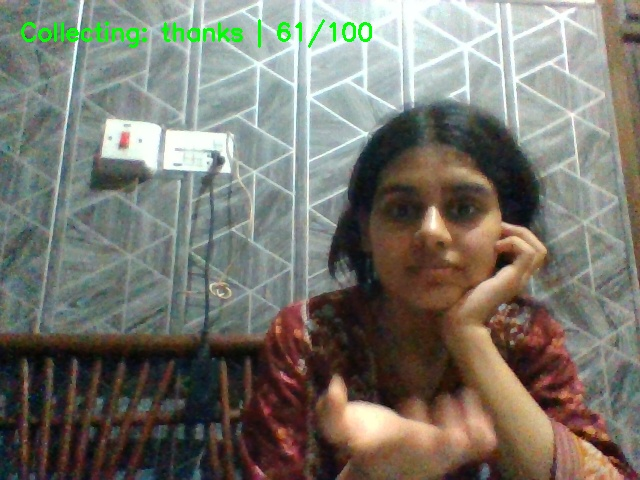thanks: (312, 358, 518, 479)
